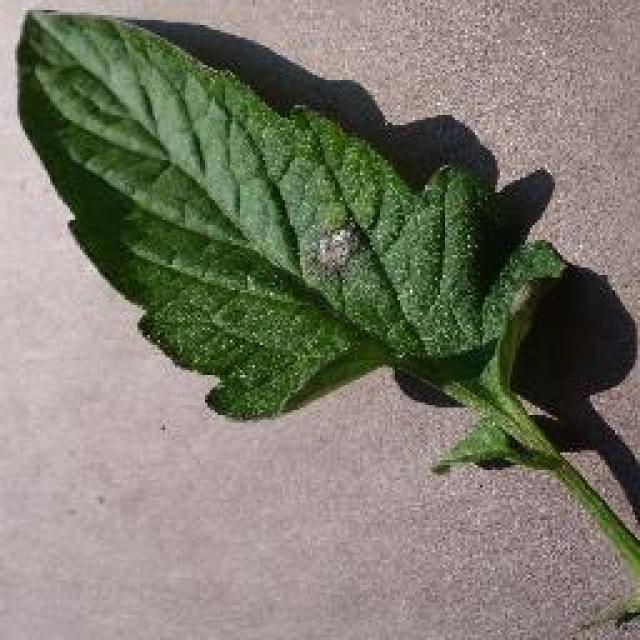Tomato Late Blight: (262, 192, 415, 332)
